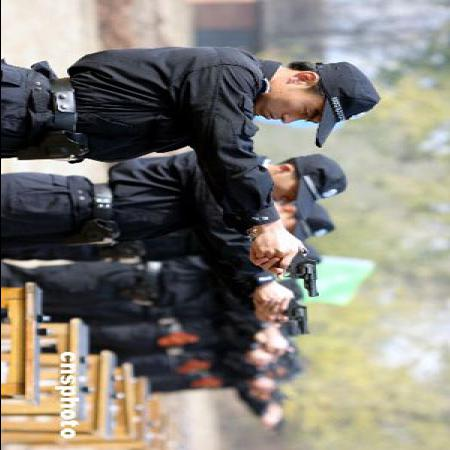Pistol: (271, 248, 321, 295), (280, 296, 312, 333)
